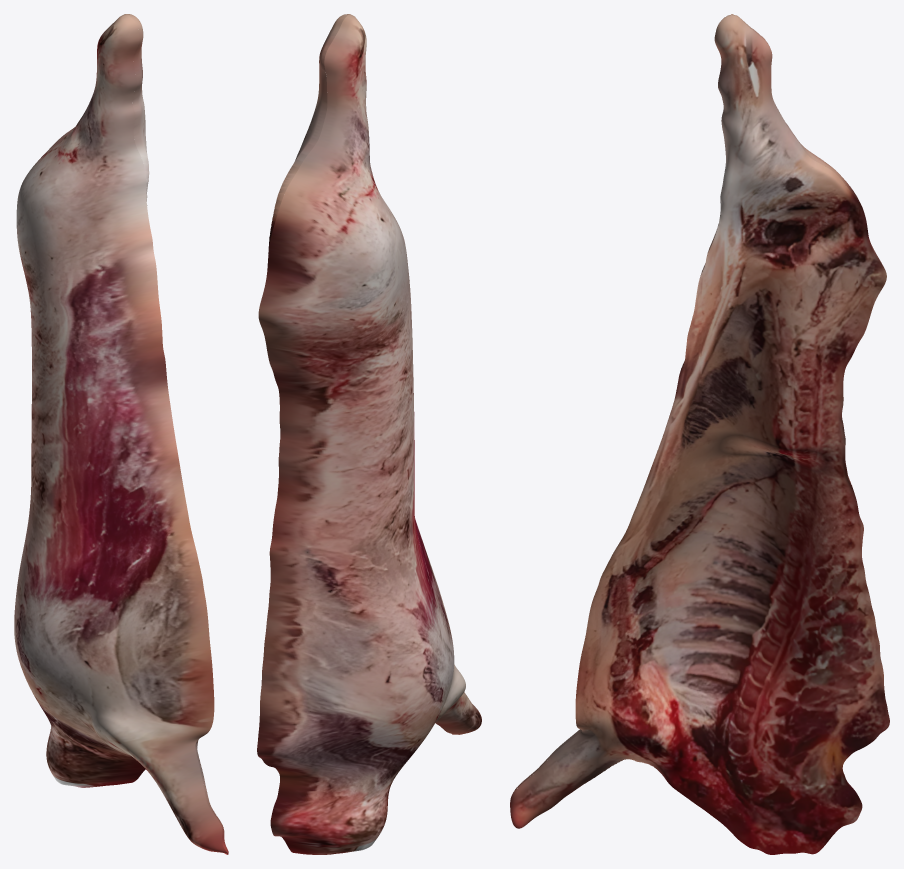
File: demi_carcasse_boeuf_v10.glb
3 views of the same model, side by side, from view 1: azimuth 30°, elevation 25°; view 2: azimuth 150°, elevation 25°; view 3: azimuth 270°, elevation 25° (orthographic). The views are drawn at different scales.
Parts seen in each view (by area): view 1: face_exterieure, face_de_fente; view 2: face_exterieure, face_de_fente; view 3: face_de_fente, face_exterieure.
Part boxes in pixels (box(x1,y1,x2,y2)): face_exterieure: box(14, 14, 228, 854); face_de_fente: box(126, 14, 228, 853); face_exterieure: box(257, 14, 481, 854); face_de_fente: box(268, 14, 452, 734); face_de_fente: box(510, 15, 889, 854); face_exterieure: box(513, 14, 882, 792).
Size of the model in its own units: 0.4164 by 2.5 by 1.03.
Materials: 2 (2 with a texture image).
